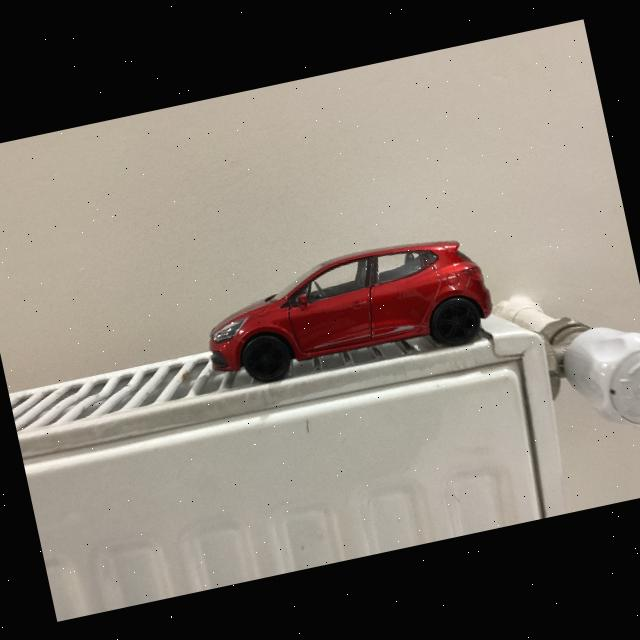Dogru_Jant: (435, 299, 477, 342), (246, 338, 288, 379)
